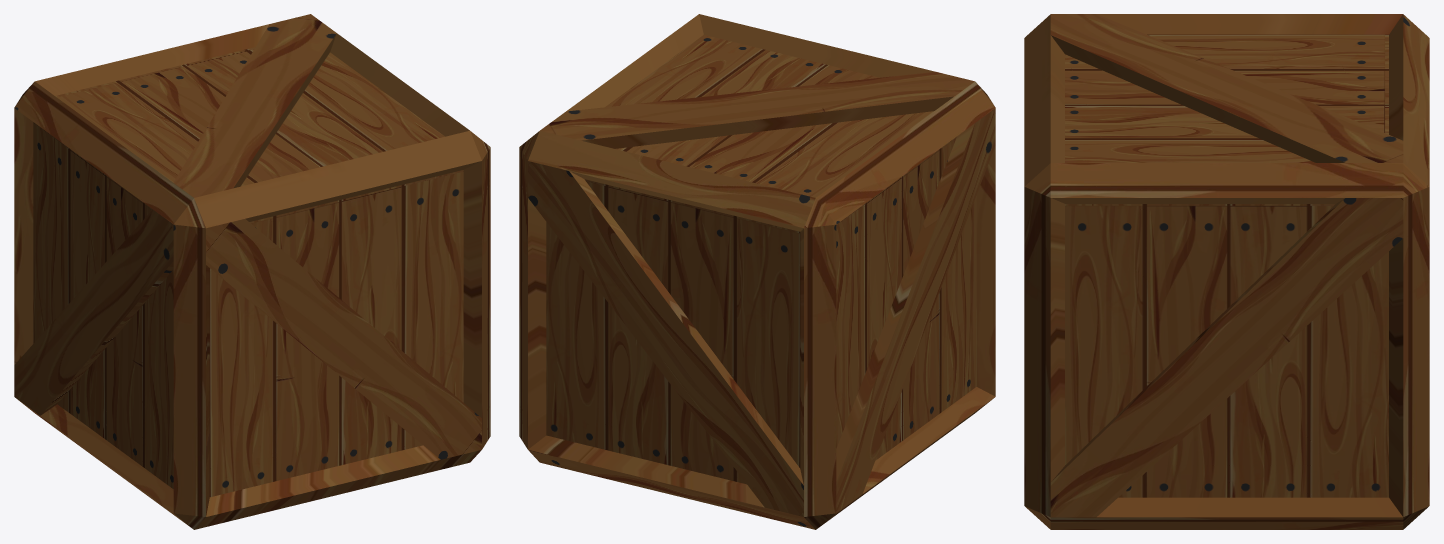
File: Caja.fbx
3 views of the same model, side by side, from view 1: azimuth 30°, elevation 25°; view 2: azimuth 150°, elevation 25°; view 3: azimuth 270°, elevation 25° (orthographic). The views are drawn at different scales.
Visible parts, largest first — view 1: Caja; view 2: Caja; view 3: Caja.
Boxes of the visible parts, bbox=[...] form: Caja: bbox=[14, 14, 490, 529]; Caja: bbox=[519, 14, 995, 529]; Caja: bbox=[1024, 14, 1429, 529].
Size of the model in its own units: 200 by 200 by 200.
